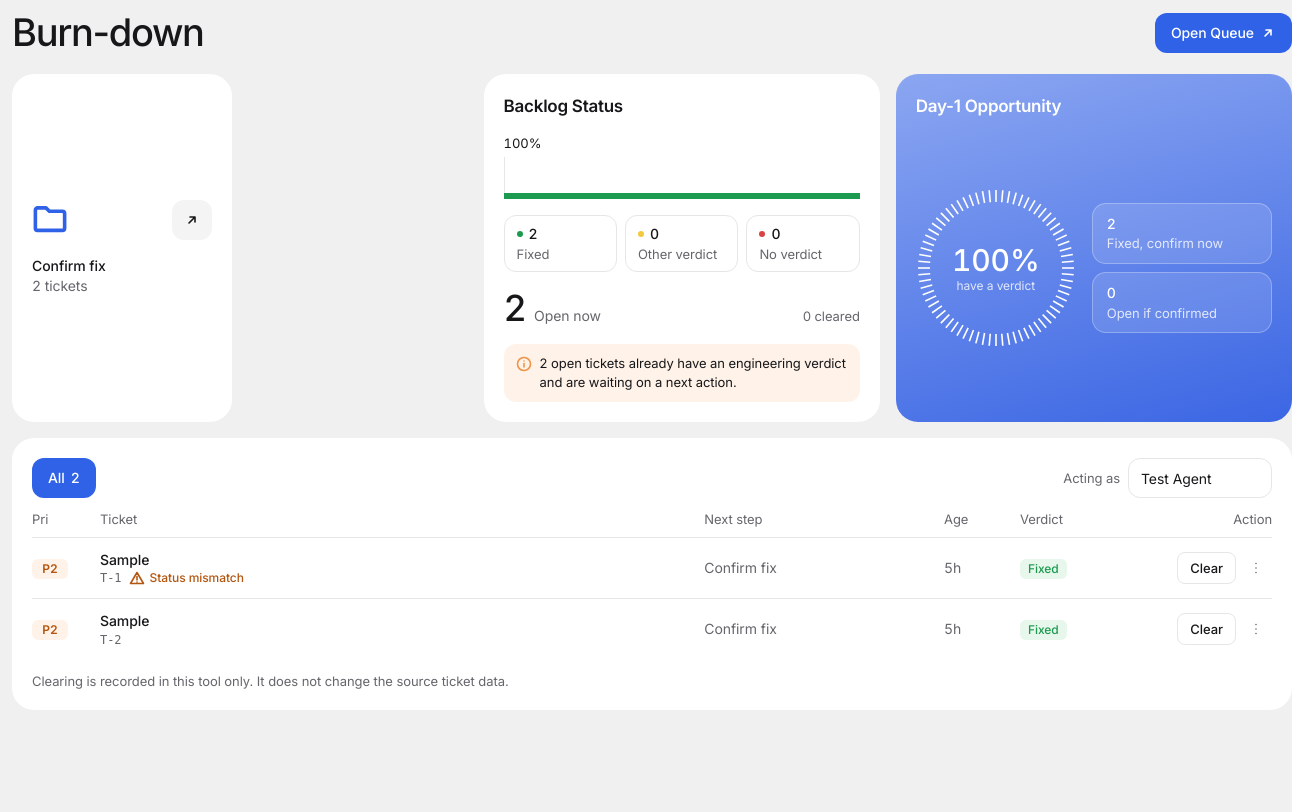
BurndownView › updates optimistically, then rolls back on error
Click the button with aria-label "Clear T-1" at (1207, 568), box [1177,552,1236,584]
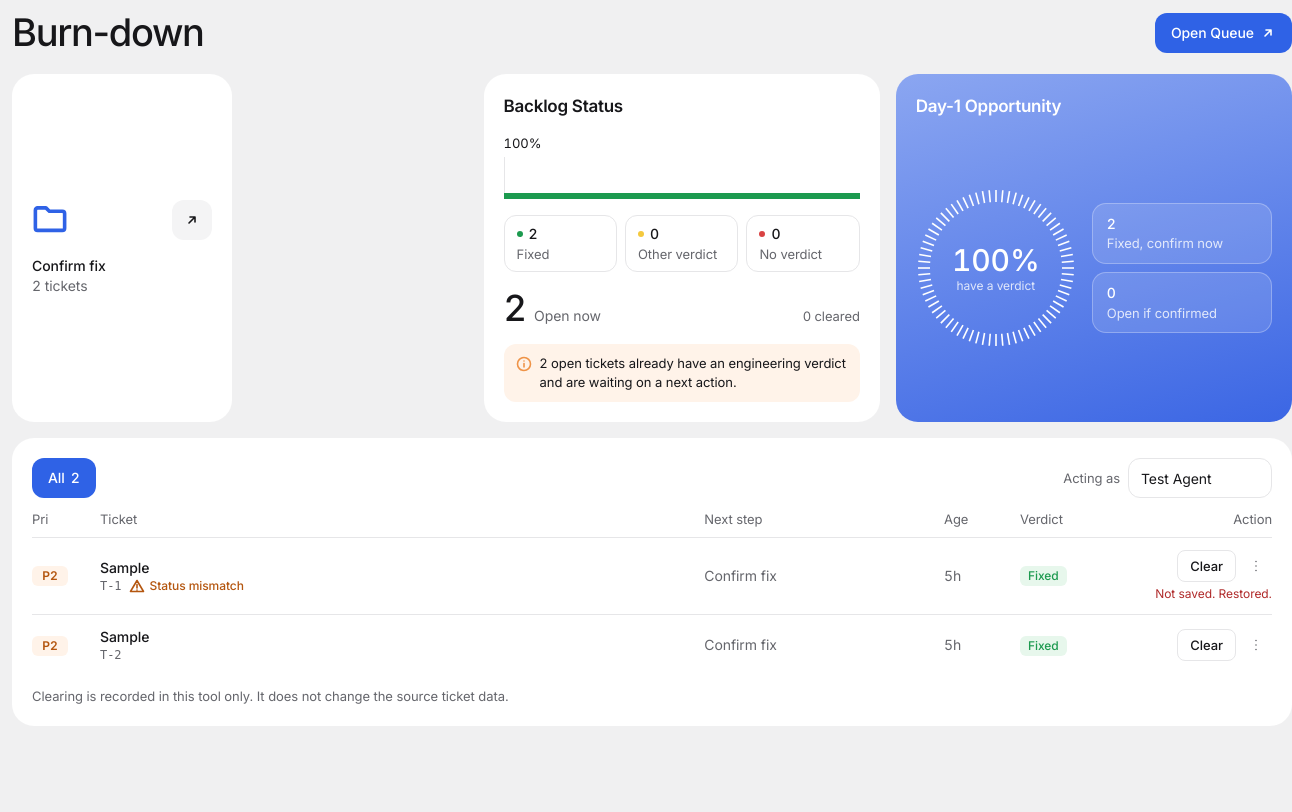
Expected: the text "0 cleared" is shown, [803,307,860,326]
Now the text "Not saved. Restored." is shown, box [1144,586,1272,602]
